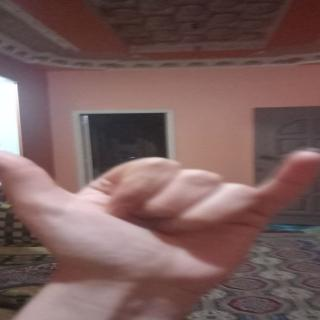YA: (0, 126, 313, 286)
